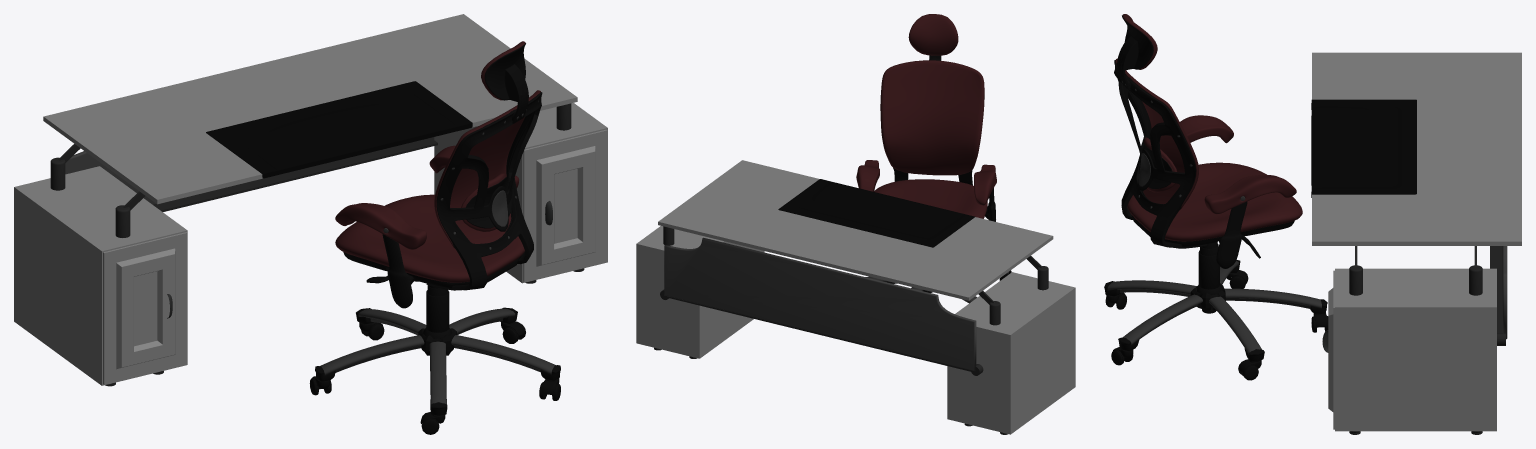
The model's file is office desk_fbx.FBX.
3 views of the same model, side by side, from view 1: azimuth 30°, elevation 25°; view 2: azimuth 150°, elevation 25°; view 3: azimuth 270°, elevation 25° (orthographic). The views are drawn at different scales.
Visible parts, largest first — view 1: Table, Rectangle02, Group001, office chair001, Cylinder05, Cylinder03; view 2: Table, Rectangle02, Group001, office chair001, Cylinder03, Cylinder05; view 3: Table, Rectangle02, Group001, office chair001, Cylinder03, Cylinder05.
Boxes of the visible parts, bbox=[...] form: Table: bbox=[14, 81, 607, 385]; Rectangle02: bbox=[43, 14, 577, 204]; Group001: bbox=[335, 41, 542, 332]; office chair001: bbox=[309, 94, 560, 434]; Cylinder05: bbox=[153, 137, 437, 211]; Cylinder03: bbox=[50, 103, 571, 237]; Table: bbox=[636, 179, 1075, 434]; Rectangle02: bbox=[658, 160, 1053, 300]; Group001: bbox=[874, 14, 995, 221]; office chair001: bbox=[856, 60, 1011, 303]; Cylinder03: bbox=[663, 226, 1048, 325]; Cylinder05: bbox=[660, 289, 983, 375]; Table: bbox=[1311, 99, 1507, 431]; Rectangle02: bbox=[1312, 52, 1521, 245]; Group001: bbox=[1114, 14, 1302, 289]; office chair001: bbox=[1104, 63, 1328, 380]; Cylinder03: bbox=[1349, 246, 1482, 295]; Cylinder05: bbox=[1490, 246, 1505, 345].
Size of the model in its own units: 82.11 by 55.55 by 63.67.
